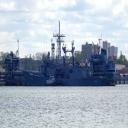Fragata: (21, 23, 104, 88)
